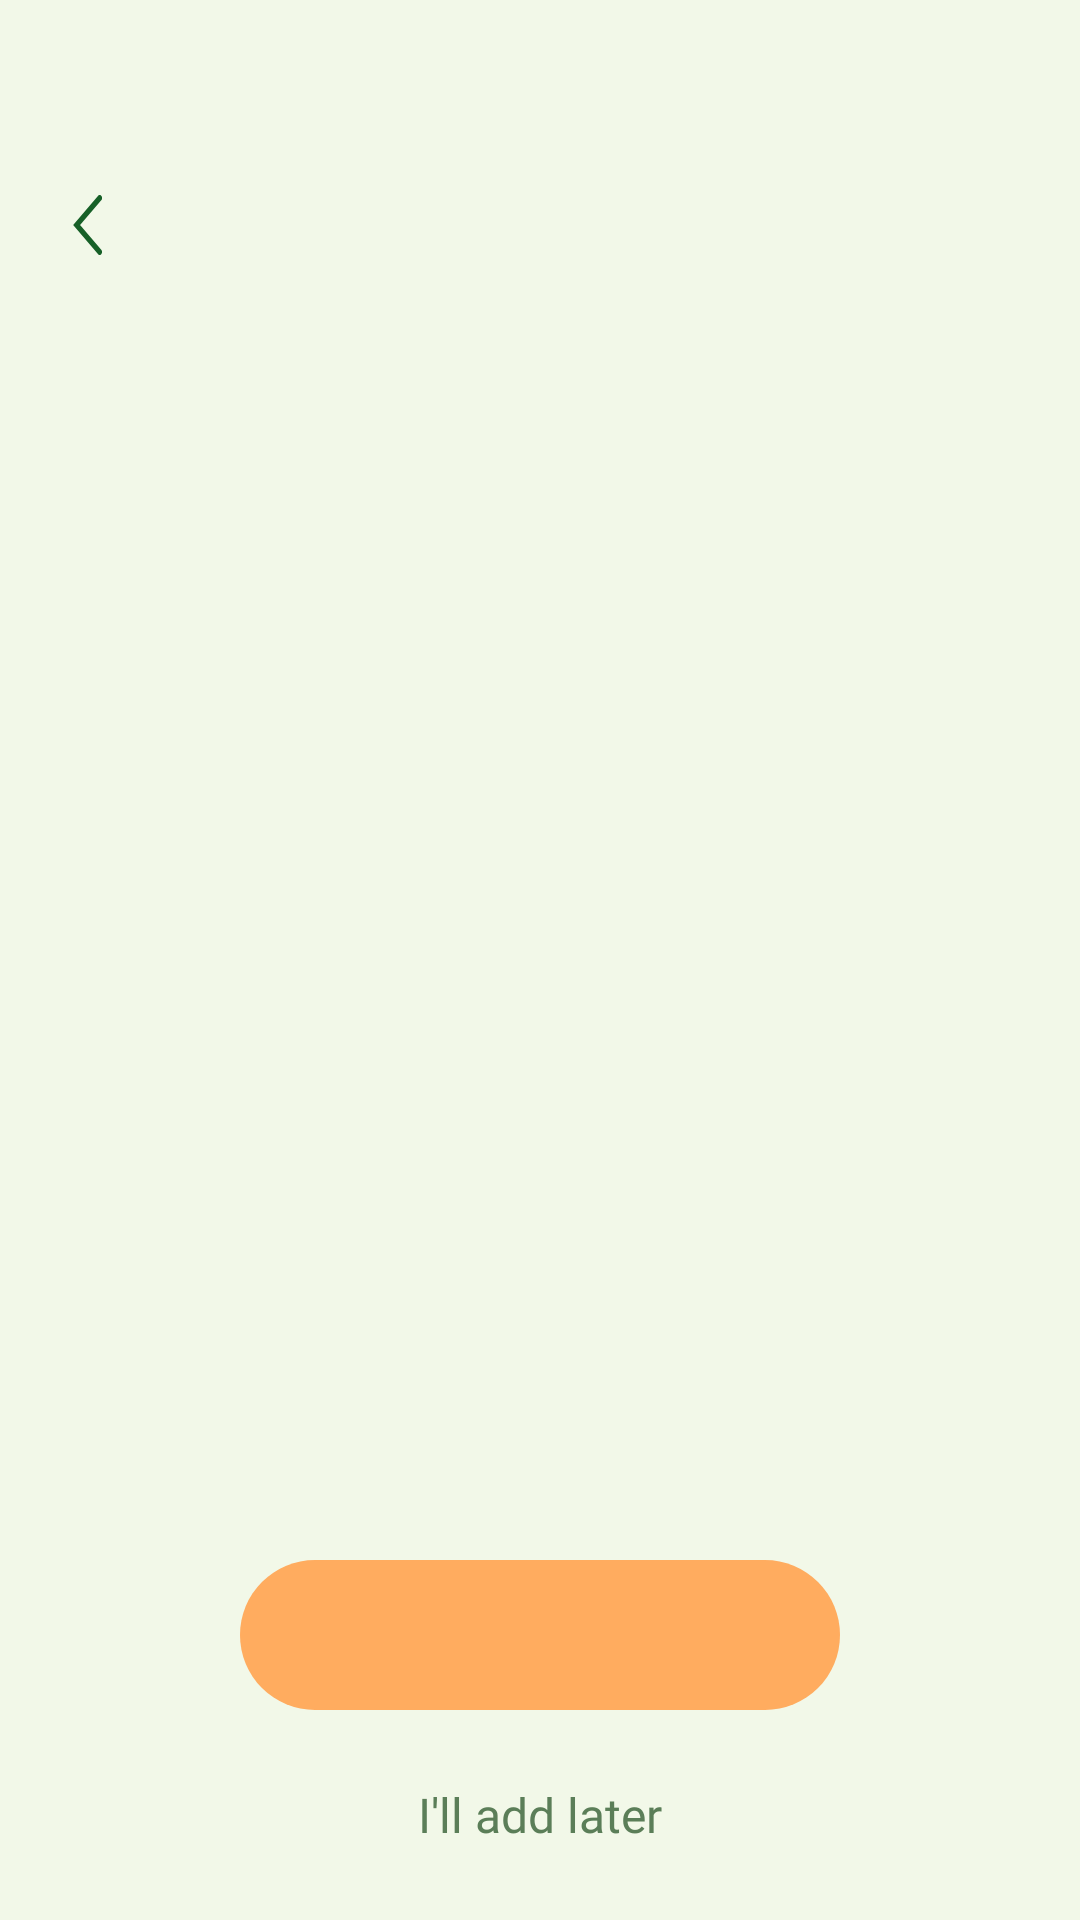

Icons on this 1080 × 1920 Android screen, each with the point to tap as point (x, y):
back carrot: point (87, 225)
